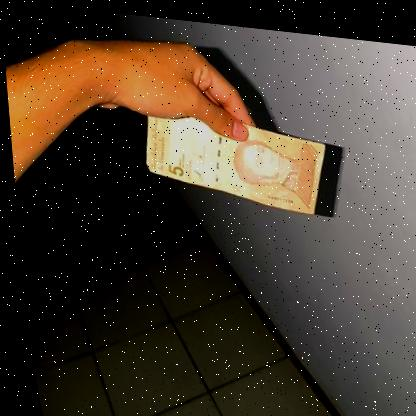five-front-vef: (140, 109, 331, 211)
